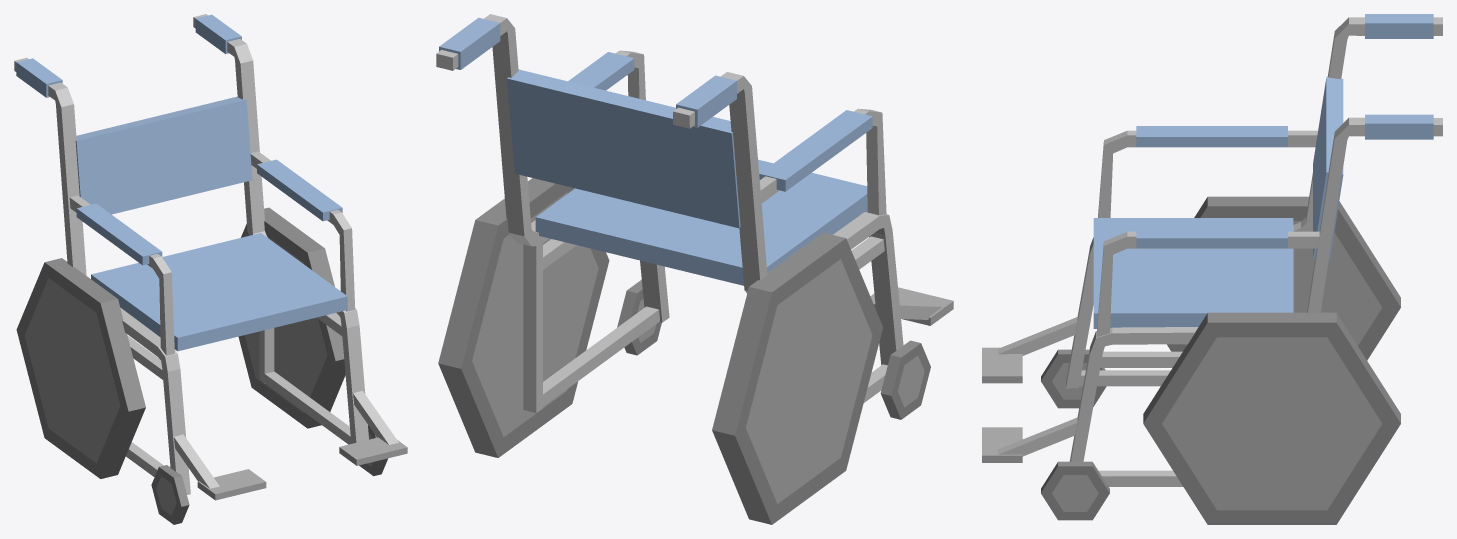
File: wheelchair_2.fbx
3 renders of one model, left to right at view 1: azimuth 30°, elevation 25°; view 2: azimuth 150°, elevation 25°; view 3: azimuth 270°, elevation 25°, orthographic. The views are drawn at different scales.
Visible parts, largest first — view 1: Cube_2; view 2: Cube_2; view 3: Cube_2.
Part boxes in pixels (left/top/right/bottom): Cube_2: left=14, top=14, right=407, bottom=524; Cube_2: left=436, top=14, right=953, bottom=524; Cube_2: left=982, top=14, right=1442, bottom=524.
Bounding box in the file's own units: 35.58 × 51.75 × 54.99.
